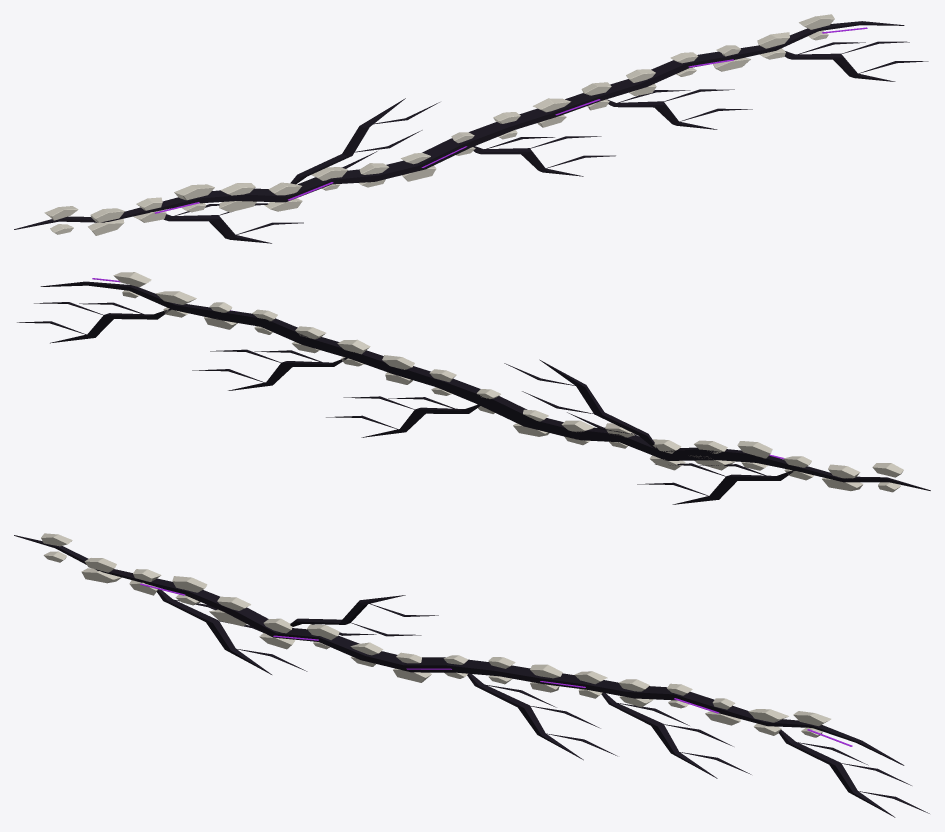
The model's file is SM_Aurelion_KIT_Z09Wound_3.fbx.
3 renders of one model, top to bottom at view 1: azimuth 30°, elevation 25°; view 2: azimuth 150°, elevation 25°; view 3: azimuth 330°, elevation 25°, orthographic.
Visible parts, largest first — view 1: SM_Aurelion_KIT_Z09Wound_3; view 2: SM_Aurelion_KIT_Z09Wound_3; view 3: SM_Aurelion_KIT_Z09Wound_3.
Part boxes in pixels (left/top/right/bottom): SM_Aurelion_KIT_Z09Wound_3: left=14, top=14, right=928, bottom=243; SM_Aurelion_KIT_Z09Wound_3: left=17, top=272, right=930, bottom=504; SM_Aurelion_KIT_Z09Wound_3: left=14, top=533, right=929, bottom=817.
Size of the model in its own units: 170 by 2.6 by 21.54.
